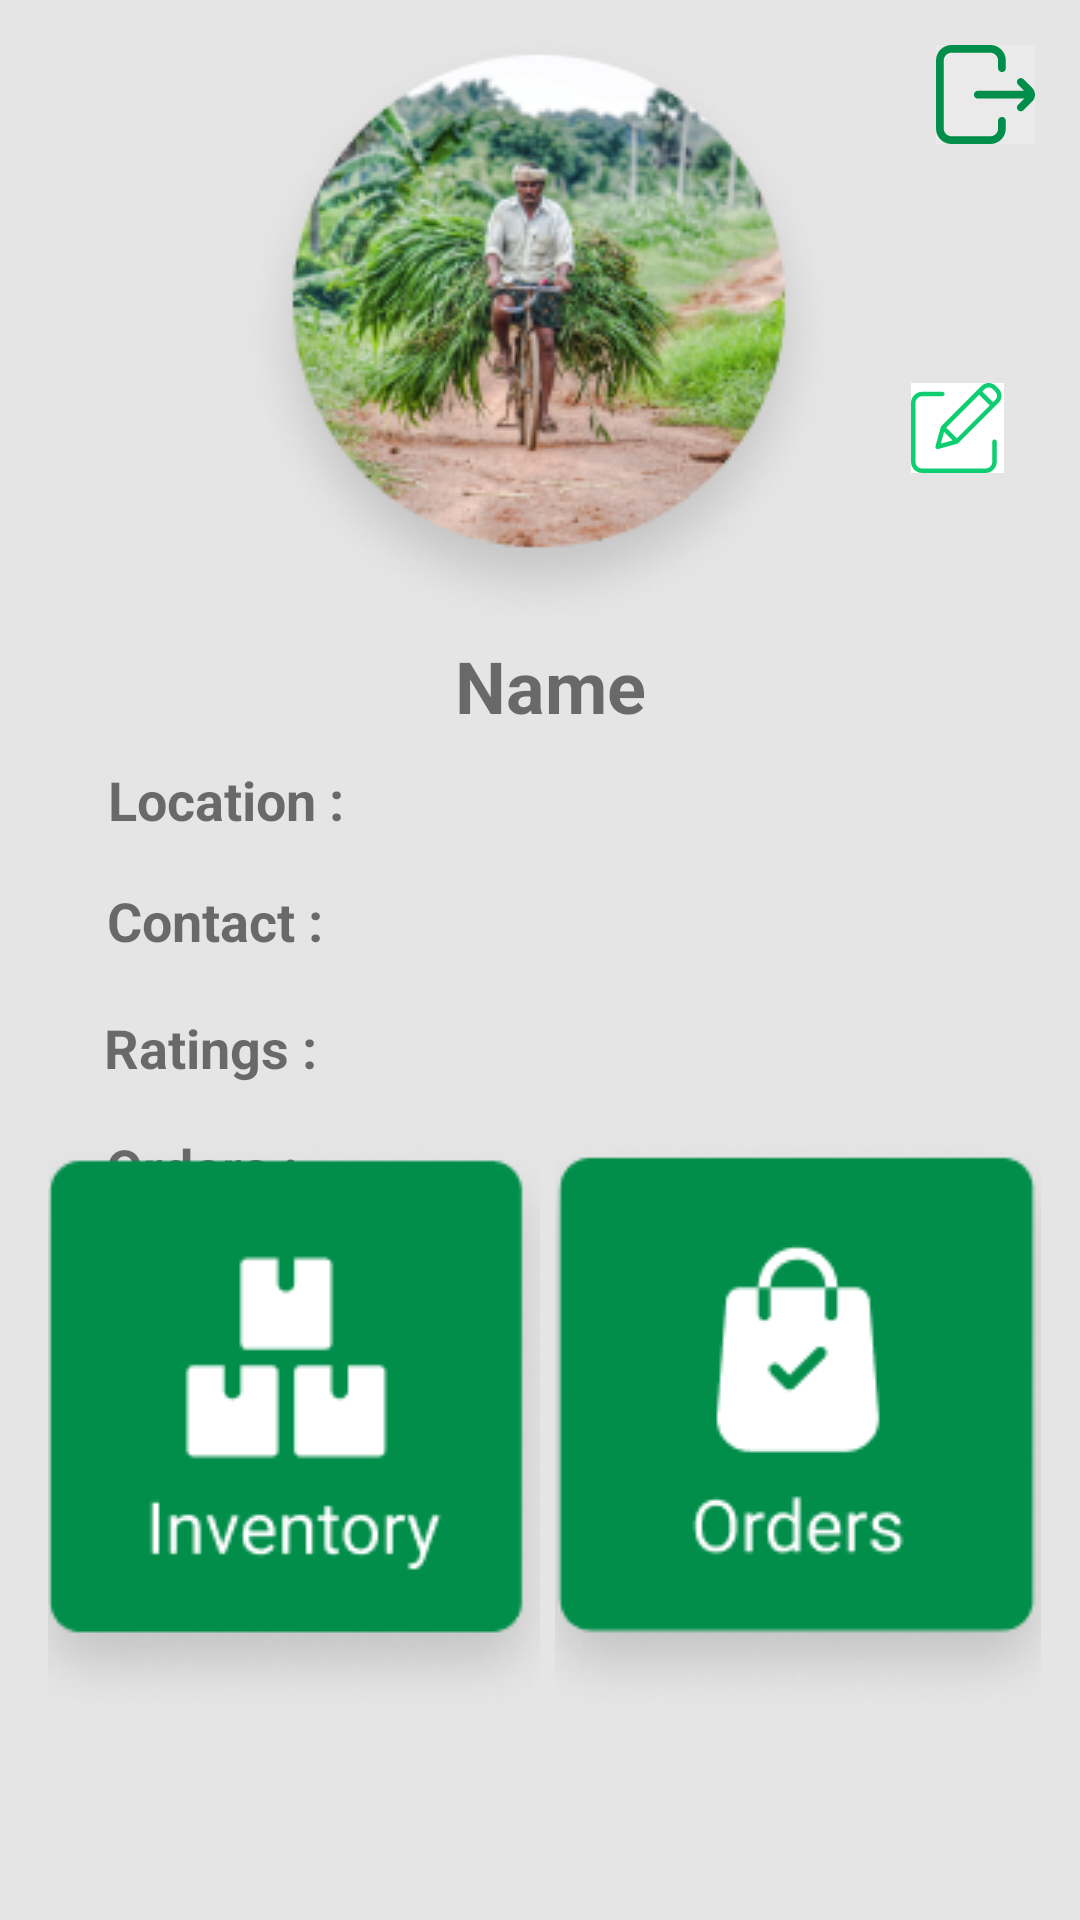

Icon click points for this 1080px x 1920px phone screenshot, format (x=x, y=y):
edit: (x=957, y=428)
exit: (x=985, y=94)
